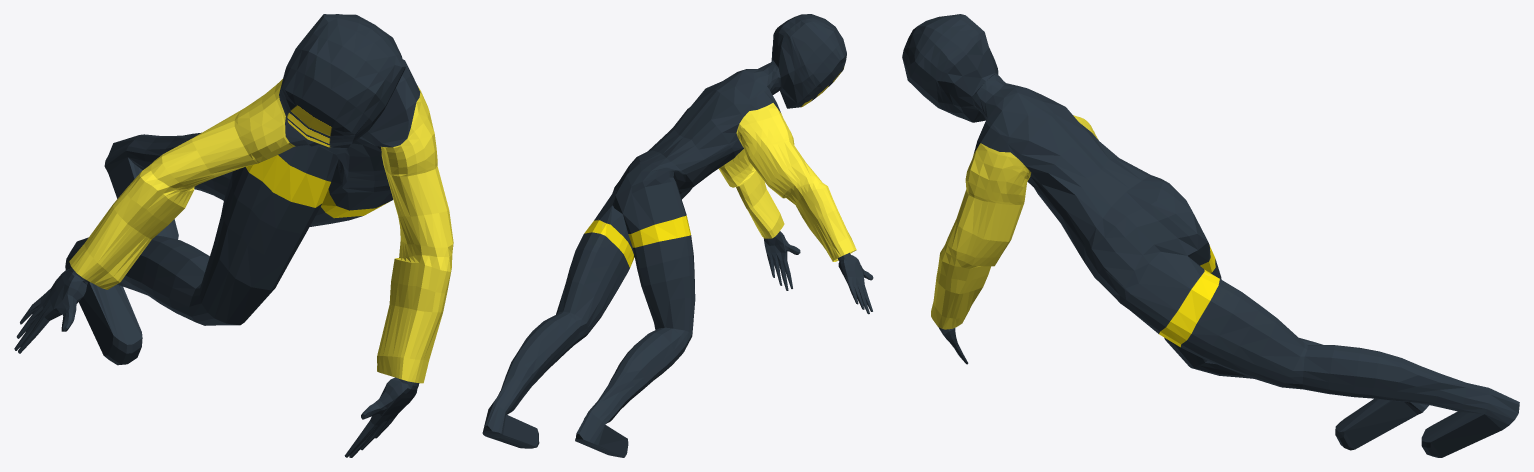
File: Sentry_Die_000010.obj
3 renders of one model, left to right at view 1: azimuth 30°, elevation 25°; view 2: azimuth 150°, elevation 25°; view 3: azimuth 270°, elevation 25°, orthographic. The views are drawn at different scales.
Visible parts, largest first — view 1: Cube; view 2: Cube; view 3: Cube.
Part boxes in pixels (box(x1,y1,x2,y2)): Cube: box(14, 14, 453, 457); Cube: box(482, 14, 873, 457); Cube: box(902, 14, 1519, 457).
Bounding box in the file's own units: 1.94 × 2.37 × 3.21.
